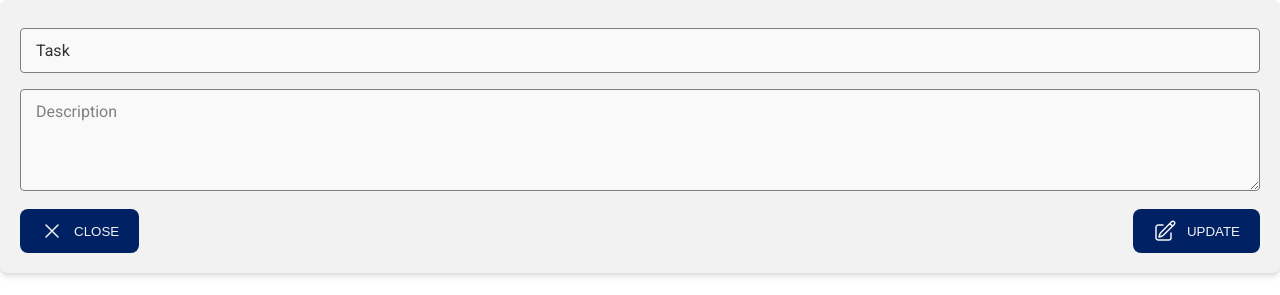
TaskForm › shows error when description is empty
What coordinates should you click on to do the following:
click the button "UPDATE"
I would click on:
 (1196, 231)
Its box is [1133,209,1260,253].
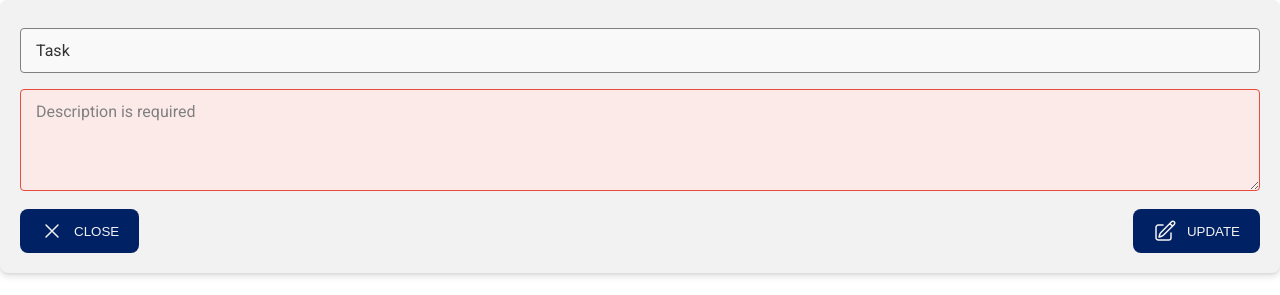
Check: the text box with placeholder "Description is required" is shown, box [20,89,1260,191]
